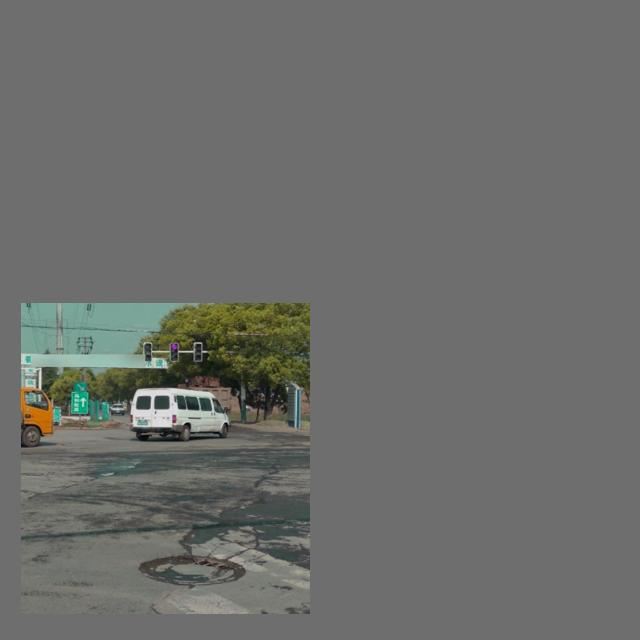broke: (138, 553, 245, 586)
